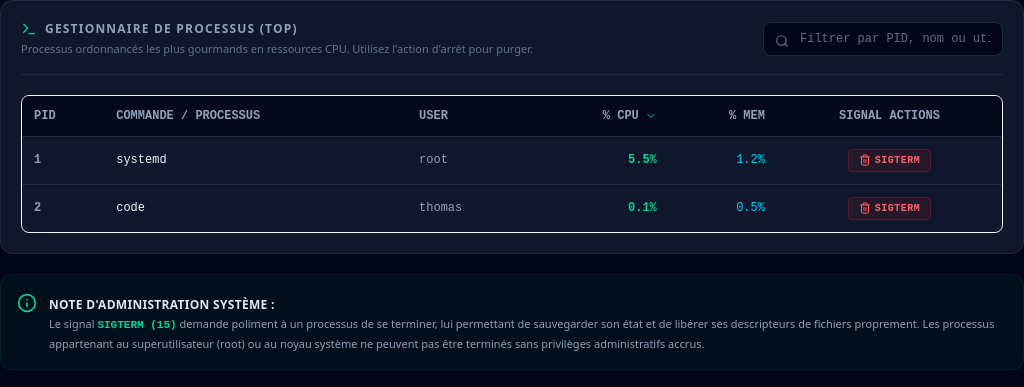
Test: ProcessesTable › filtre par recherche
Step 1. Type "systemd" into the field with placeholder "Filtrer par PID, nom ou utilisateur..." → (883, 39), box top-left (763, 22), bottom-right (1003, 56)
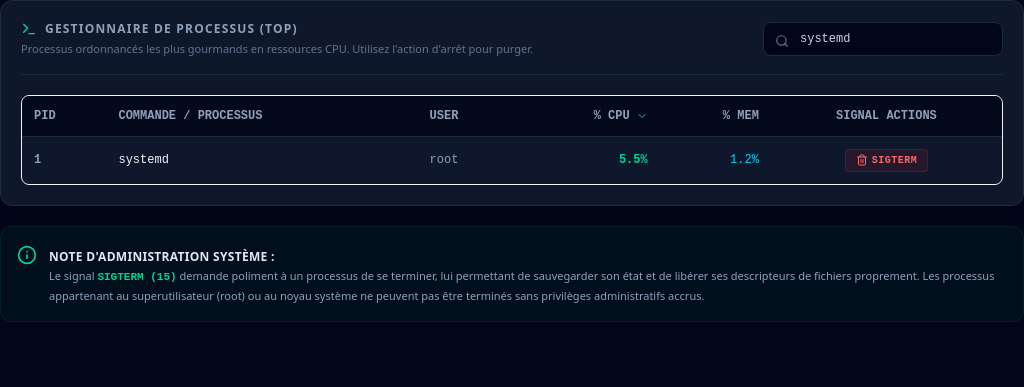
Expected: the text "systemd" is shown, top-left (106, 136), bottom-right (418, 184)
Expected: the text "code" is gone
